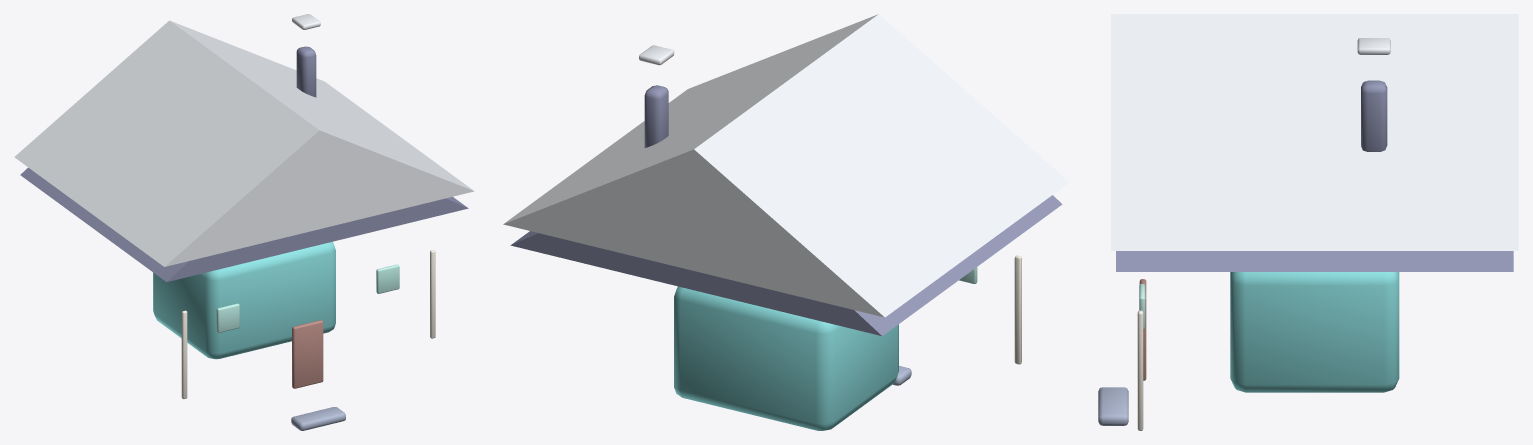
Rendered from northern_house_1.glb.
The picture shows the model from 3 angles, left to right: view 1: azimuth 30°, elevation 25°; view 2: azimuth 150°, elevation 25°; view 3: azimuth 270°, elevation 25°; orthographic projection. The views are drawn at different scales.
Visible parts, largest first — view 1: SnowCap.001, HouseBody.001, GableRoof.001, FrontDoor.001, Chimney.001, DoorStep.001, CornerTrim_-1.001, FrontWindow_-1.001, FrontWindow_1.001, CornerTrim_1.001; view 2: SnowCap.001, HouseBody.001, GableRoof.001, Chimney.001, CornerTrim_-1.001; view 3: SnowCap.001, HouseBody.001, GableRoof.001, Chimney.001, DoorStep.001, CornerTrim_1.001, ChimneySnow.001.
Part boxes in pixels (box(x1,y1,x2,y2)): SnowCap.001: box(14, 20, 474, 266); HouseBody.001: box(153, 242, 335, 359); GableRoof.001: box(20, 167, 468, 282); FrontDoor.001: box(292, 320, 323, 388); Chimney.001: box(296, 46, 316, 97); DoorStep.001: box(291, 407, 345, 430); CornerTrim_-1.001: box(181, 310, 187, 399); FrontWindow_-1.001: box(216, 303, 239, 332); FrontWindow_1.001: box(376, 264, 399, 293); CornerTrim_1.001: box(430, 250, 435, 338); SnowCap.001: box(503, 14, 1069, 317); HouseBody.001: box(674, 286, 898, 430); GableRoof.001: box(510, 195, 1062, 336); Chimney.001: box(644, 85, 668, 147); CornerTrim_-1.001: box(1014, 255, 1021, 364); SnowCap.001: box(1111, 14, 1518, 250); HouseBody.001: box(1230, 272, 1399, 392); GableRoof.001: box(1116, 251, 1513, 271); Chimney.001: box(1361, 80, 1387, 151); DoorStep.001: box(1098, 387, 1128, 425); CornerTrim_1.001: box(1137, 310, 1143, 430); ChimneySnow.001: box(1357, 38, 1390, 54).
Size of the model in its own units: 5.75 by 5.54 by 4.97.
